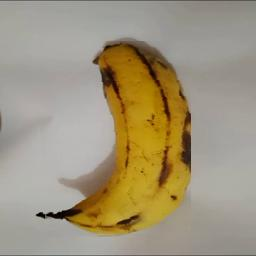Banana Semifresh: (35, 41, 191, 237)
